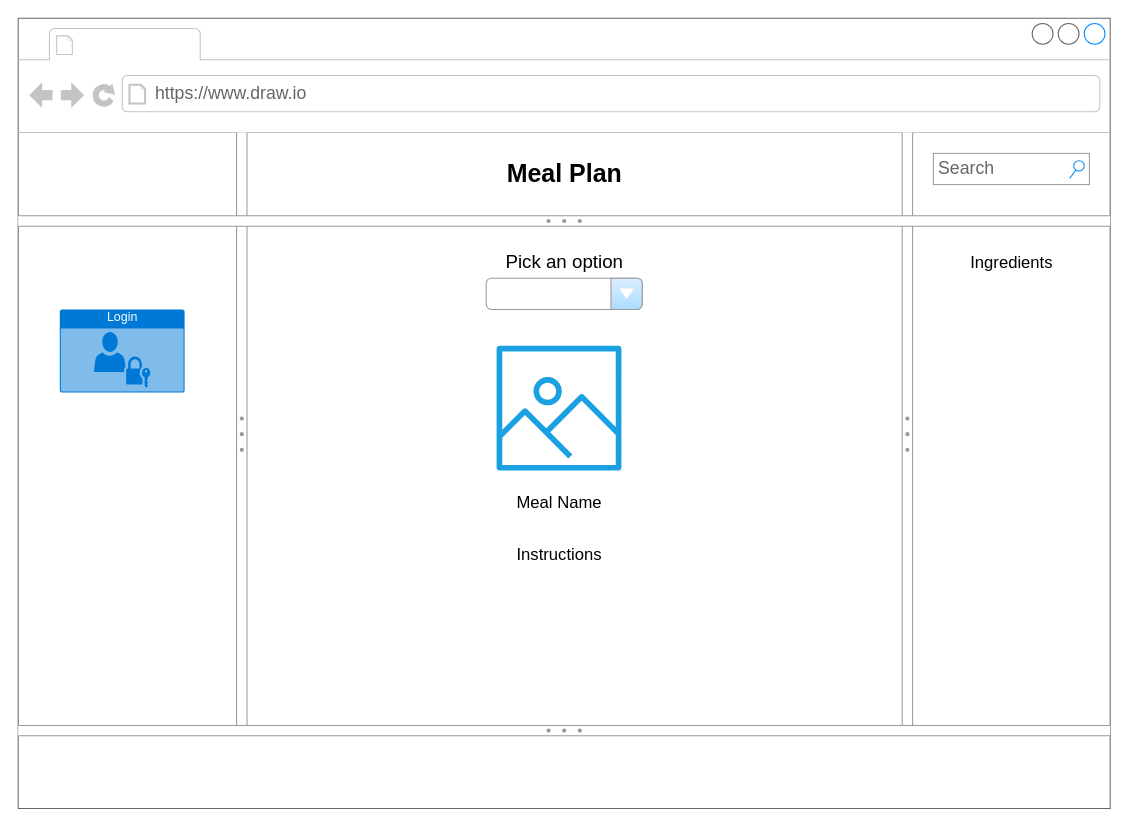
Some shapes in this 1128 by 827 pixel diagram are drawn without their labels. Each missing label, with the centre of its shape:
"Option" belongs at pixel 563 293.
"Page 1" belongs at pixel 137 44.
